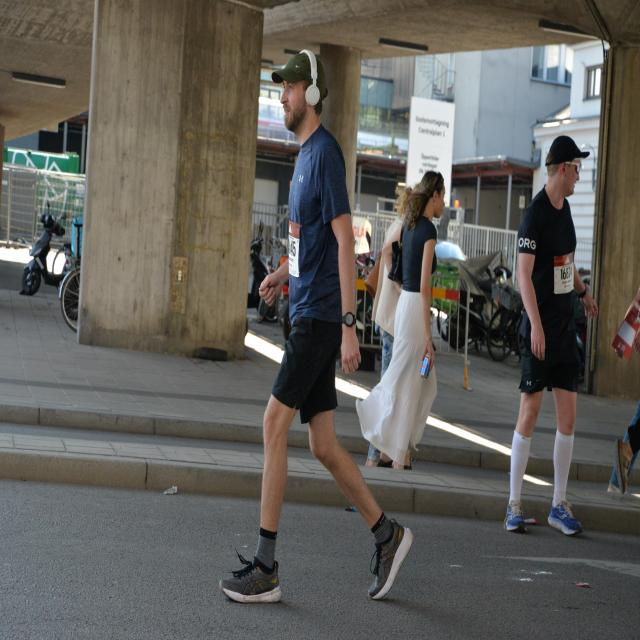runner-detect: (213, 52, 419, 623)
